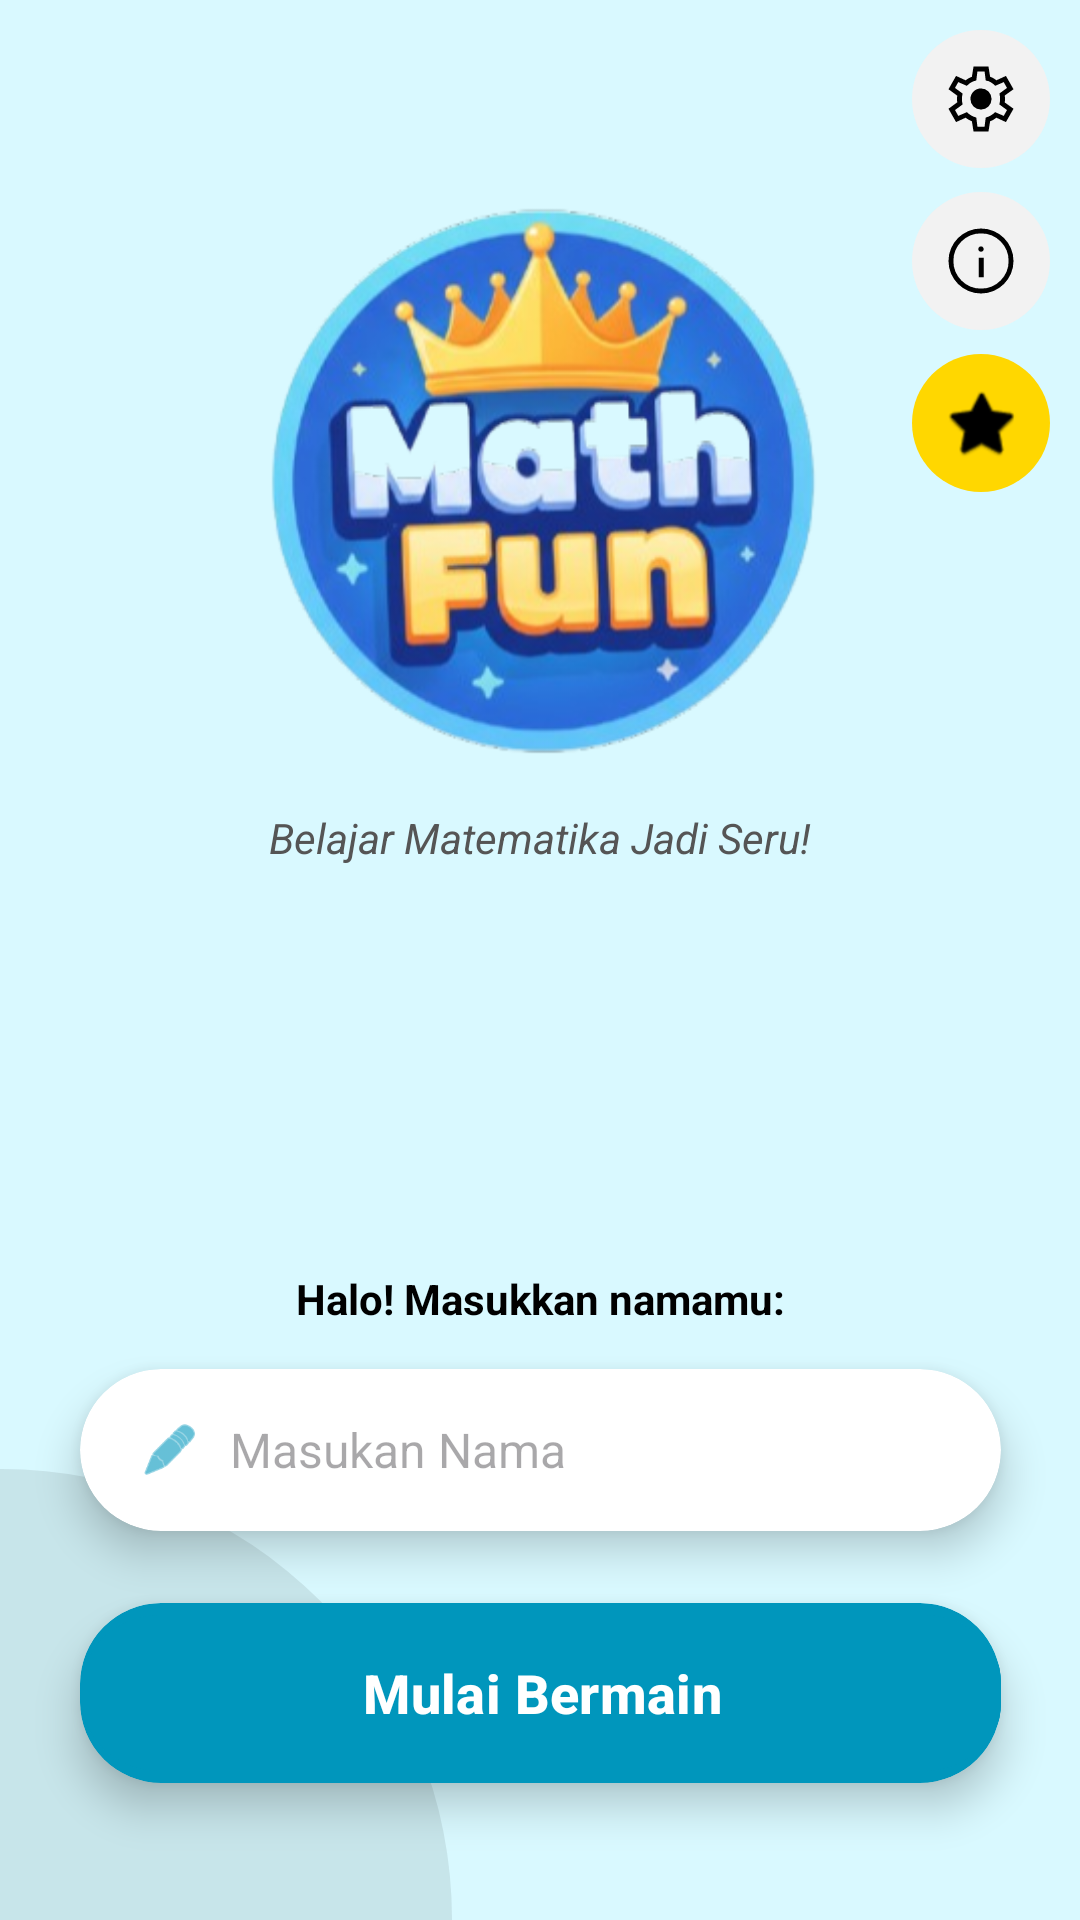

Locate icon controls on the screen. Image size 1080x1920, boxes as [x1=x1, y1=y1, x2=x2, y2=y2].
edit: [x1=144, y1=1424, x2=195, y2=1475]
info: [x1=948, y1=228, x2=1014, y2=294]
settings: [x1=948, y1=66, x2=1014, y2=132]
star on: [x1=949, y1=392, x2=1014, y2=455]
